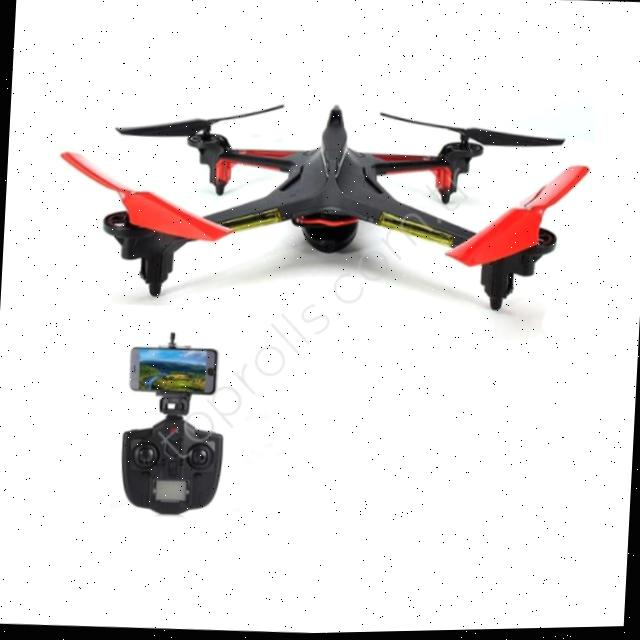drone: (0, 63, 640, 342)
